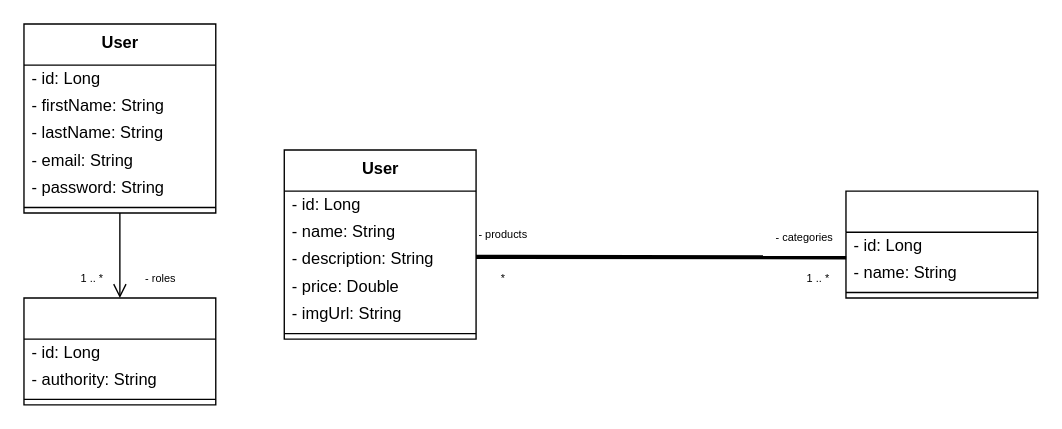
Some shapes in this 1062 by 429 pixel diagram are drawn without their labels. The shapes that lost their labels are listed below. From the top down, each one's box as (x1, y1, x2, y2) in pixels, then its label:
(845, 190, 1038, 298): Category
(23, 297, 216, 405): Role
